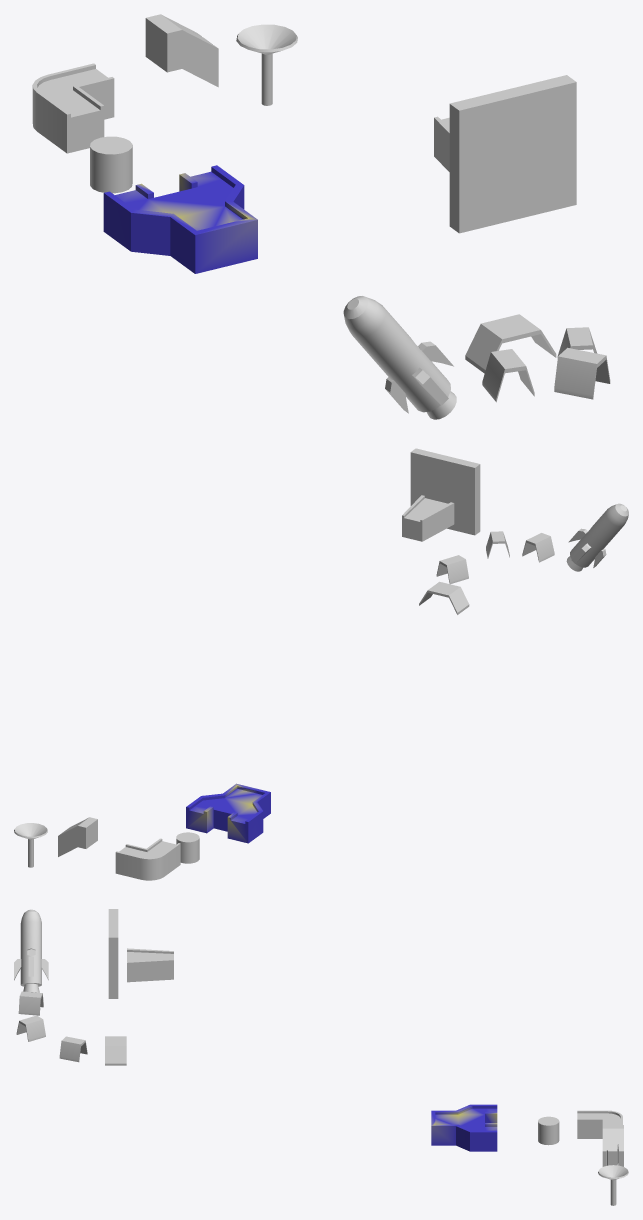
Rendered from Coll_GolfScenario.fbx.
3 renders of one model, top to bottom at view 1: azimuth 30°, elevation 25°; view 2: azimuth 150°, elevation 25°; view 3: azimuth 270°, elevation 25°, orthographic. The views are drawn at different scales.
Visible parts, largest first — view 1: Coll_Pared, Coll_Inicio, Coll_Cohete, Coll_Curva, Coll_Rampa, Coll_Cilindro, Coll_Trapecio1, Coll_Trapecio3, Coll_Embudo, Coll_Trapecio4, Coll_Inicio2, Coll_Trapecio2; view 2: Coll_Pared, Coll_Inicio, Coll_Curva, Coll_Cohete, Coll_Inicio2, Coll_Rampa, Coll_Trapecio1, Coll_Trapecio2, Coll_Cilindro, Coll_Trapecio4, Coll_Embudo; view 3: Coll_Inicio, Coll_Cohete, Coll_Inicio2, Coll_Curva, Coll_Pared, Coll_Rampa, Coll_Trapecio1, Coll_Cilindro, Coll_Trapecio2, Coll_Trapecio3, Coll_Trapecio4, Coll_Embudo.
Part boxes in pixels (box(x1,y1,x2,y2)): Coll_Pared: box(449, 75, 576, 233); Coll_Inicio: box(103, 165, 257, 273); Coll_Cohete: box(343, 296, 456, 419); Coll_Curva: box(32, 63, 114, 153); Coll_Rampa: box(145, 14, 218, 87); Coll_Cilindro: box(90, 136, 132, 193); Coll_Trapecio1: box(465, 314, 556, 373); Coll_Trapecio3: box(554, 347, 610, 399); Coll_Embudo: box(236, 24, 297, 105); Coll_Trapecio4: box(482, 349, 534, 402); Coll_Inicio2: box(434, 116, 449, 171); Coll_Trapecio2: box(557, 327, 597, 357); Coll_Pared: box(410, 448, 480, 535); Coll_Inicio: box(186, 783, 270, 843); Coll_Curva: box(115, 838, 180, 880); Coll_Cohete: box(566, 503, 628, 571); Coll_Inicio2: box(402, 495, 454, 541); Coll_Rampa: box(58, 817, 97, 856); Coll_Trapecio1: box(419, 581, 469, 614); Coll_Trapecio2: box(436, 555, 468, 584); Coll_Cilindro: box(176, 832, 199, 863); Coll_Trapecio4: box(522, 533, 554, 562); Coll_Embudo: box(14, 823, 47, 867); Coll_Inicio: box(431, 1104, 497, 1151); Coll_Cohete: box(14, 909, 48, 992); Coll_Inicio2: box(127, 948, 173, 982); Coll_Curva: box(577, 1110, 622, 1138); Coll_Pared: box(108, 909, 118, 998); Coll_Rampa: box(602, 1125, 623, 1166); Coll_Trapecio1: box(105, 1036, 126, 1065); Coll_Cilindro: box(538, 1116, 559, 1145); Coll_Trapecio2: box(59, 1036, 87, 1062); Coll_Trapecio3: box(16, 1015, 45, 1041); Coll_Trapecio4: box(18, 991, 43, 1015); Coll_Embudo: box(598, 1165, 628, 1205).
Size of the model in its own units: 2851 by 2253 by 5727.
